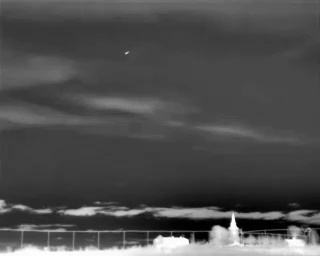AIRPLANE: (122, 48, 131, 57)
